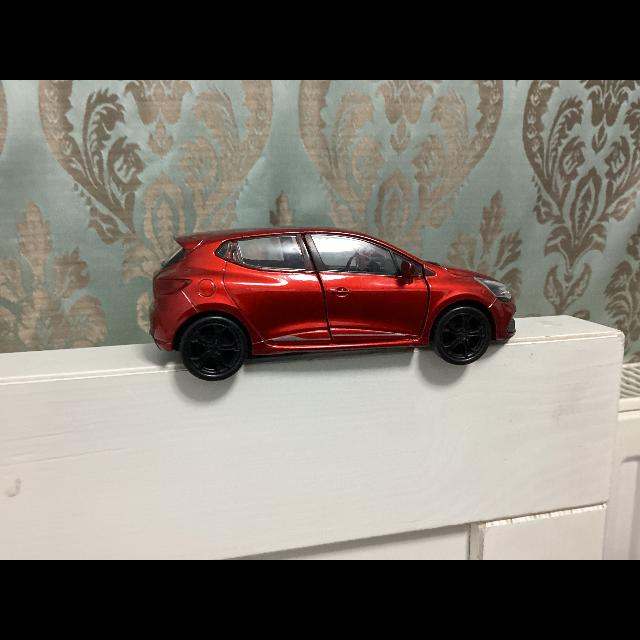Dogru_Jant: (188, 323, 240, 372), (440, 312, 484, 360)
